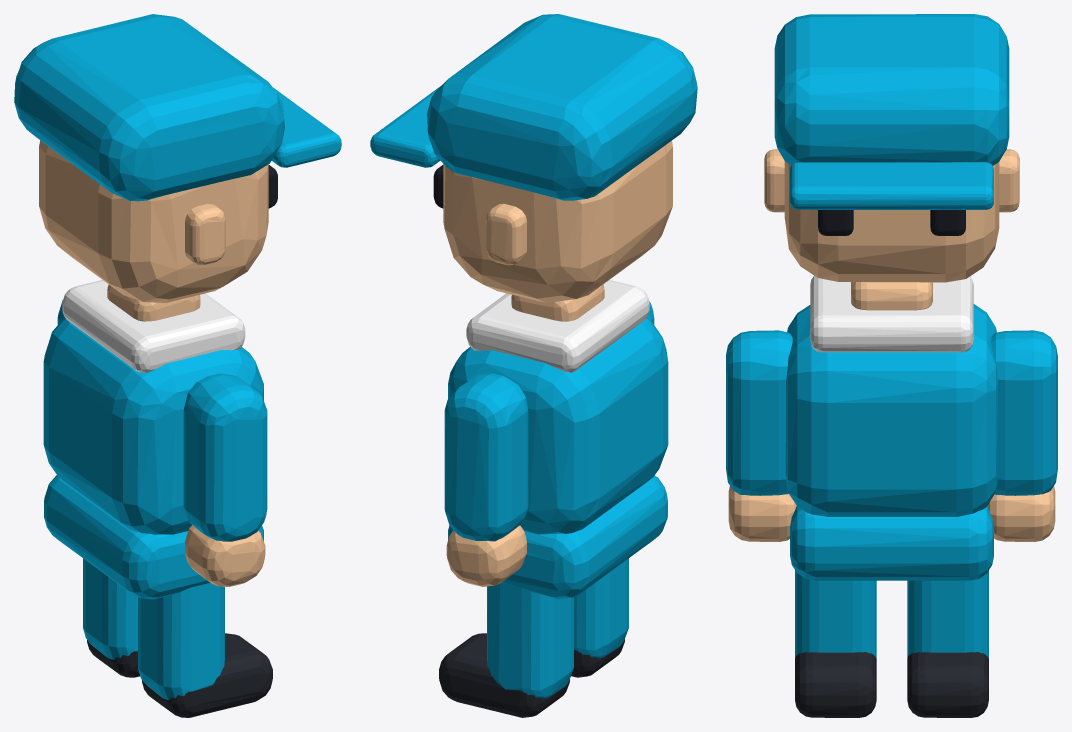
File: passenger.glb
The picture shows the model from 3 angles, left to right: view 1: azimuth 30°, elevation 25°; view 2: azimuth 150°, elevation 25°; view 3: azimuth 270°, elevation 25°; orthographic projection. The views are drawn at different scales.
Parts seen in each view (by area): view 1: cap, torso, head, arm, leg (×2), hips, collar, shoe (×2), hand, cap_brim, ear, neck; view 2: cap, torso, head, arm, leg (×2), hips, collar, shoe (×2), hand, cap_brim, ear, neck; view 3: torso, cap, arm (×2), head, hips, leg (×2), shoe (×2), cap_brim, collar, hand (×2), ear (×2), neck (+1 smaller).
Part boxes in pixels (x1,y1,x2,y2): cap: [14, 14, 284, 201]; torso: [43, 317, 263, 534]; head: [39, 140, 268, 302]; arm: [183, 373, 267, 541]; leg (×2): [83, 558, 224, 700]; hips: [44, 475, 263, 599]; collar: [62, 280, 245, 372]; shoe (×2): [87, 633, 272, 717]; hand: [185, 525, 265, 586]; cap_brim: [271, 87, 341, 167]; ear: [185, 204, 225, 265]; neck: [107, 284, 200, 321]; cap: [427, 14, 697, 200]; torso: [448, 318, 668, 534]; head: [443, 140, 672, 302]; arm: [444, 373, 528, 541]; leg (×2): [487, 558, 628, 699]; hips: [448, 475, 667, 599]; collar: [466, 280, 649, 372]; shoe (×2): [439, 633, 624, 717]; hand: [446, 525, 526, 586]; cap_brim: [370, 85, 441, 167]; ear: [486, 203, 526, 265]; neck: [511, 284, 604, 321]; torso: [785, 304, 998, 516]; cap: [774, 14, 1009, 165]; arm (×2): [726, 330, 1057, 495]; head: [784, 161, 999, 282]; hips: [790, 506, 993, 580]; leg (×2): [795, 570, 988, 658]; shoe (×2): [795, 652, 988, 717]; cap_brim: [790, 162, 993, 209]; collar: [810, 275, 973, 352]; hand (×2): [728, 486, 1055, 541]; ear (×2): [764, 149, 1019, 212]; neck: [851, 282, 932, 310].
Bounding box in the file's own units: 0.5444 × 1.39 × 0.65.
